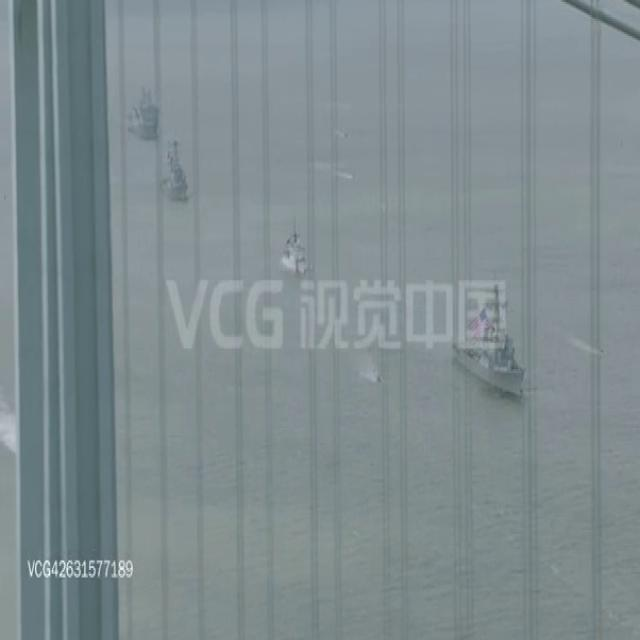fishing boat: (451, 280, 525, 396), (154, 136, 190, 204), (280, 210, 310, 277), (127, 85, 161, 142)
houseboat: (372, 368, 382, 386), (342, 128, 352, 144), (599, 344, 606, 362), (349, 169, 356, 182)
